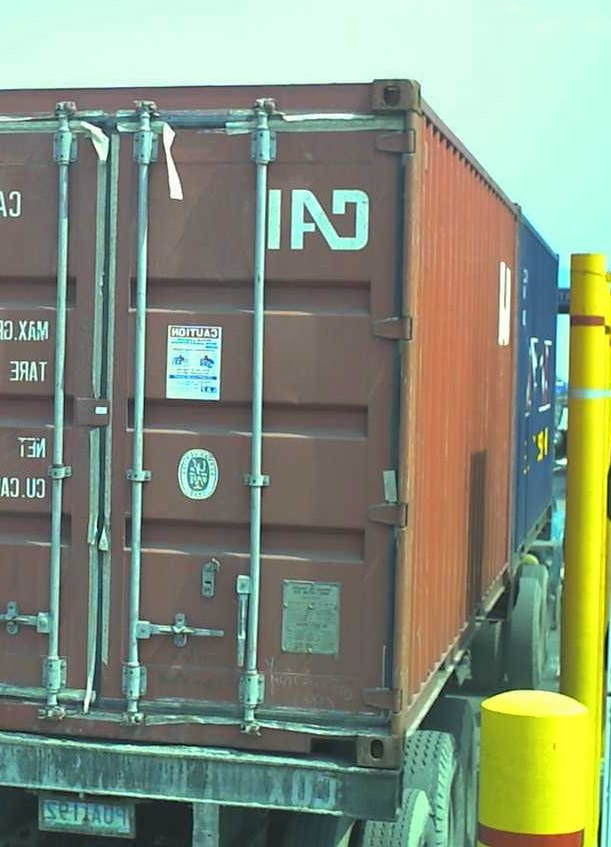container_door: (1, 77, 409, 776)
